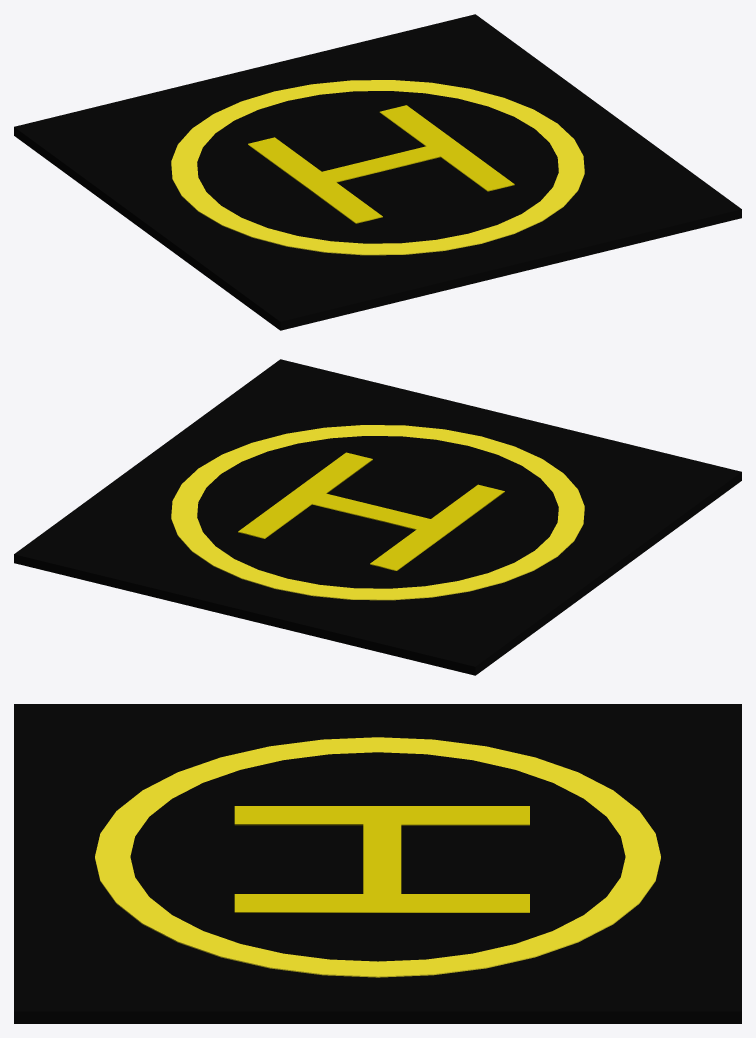
The model's file is helipad.glb.
The picture shows the model from 3 angles, top to bottom: view 1: azimuth 30°, elevation 25°; view 2: azimuth 150°, elevation 25°; view 3: azimuth 270°, elevation 25°; orthographic projection. The views are drawn at different scales.
Visible parts, largest first — view 1: helipad_ground; view 2: helipad_ground; view 3: helipad_ground.
Boxes of the visible parts, left/top/right/bottom form: helipad_ground: left=14, top=14, right=741, bottom=330; helipad_ground: left=14, top=359, right=741, bottom=675; helipad_ground: left=14, top=704, right=741, bottom=1023.
Bounding box in the file's own units: 1 × 0.0217 × 1.
